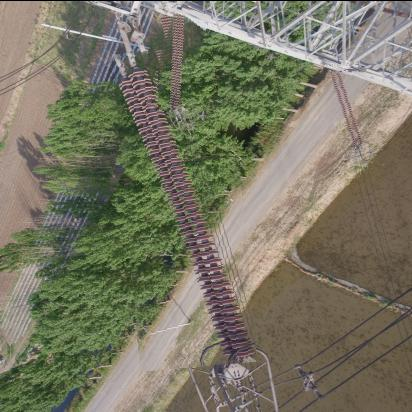insulator: (121, 47, 251, 370), (154, 15, 203, 115), (331, 71, 365, 150)
